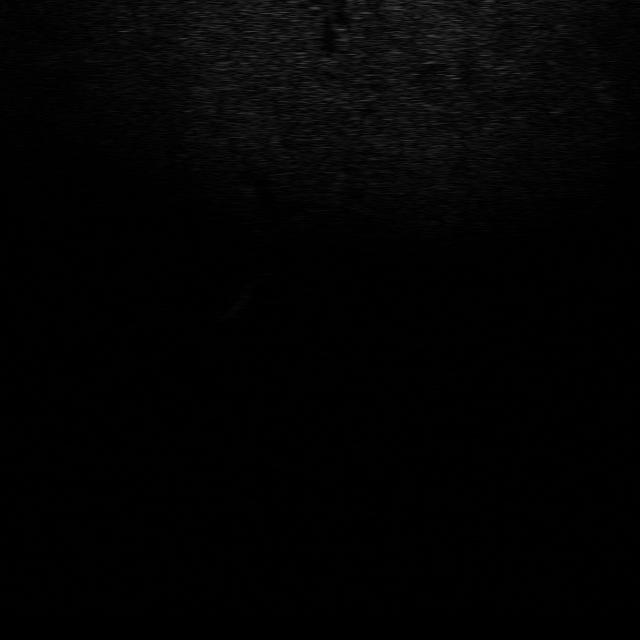human body: (214, 268, 265, 314)
